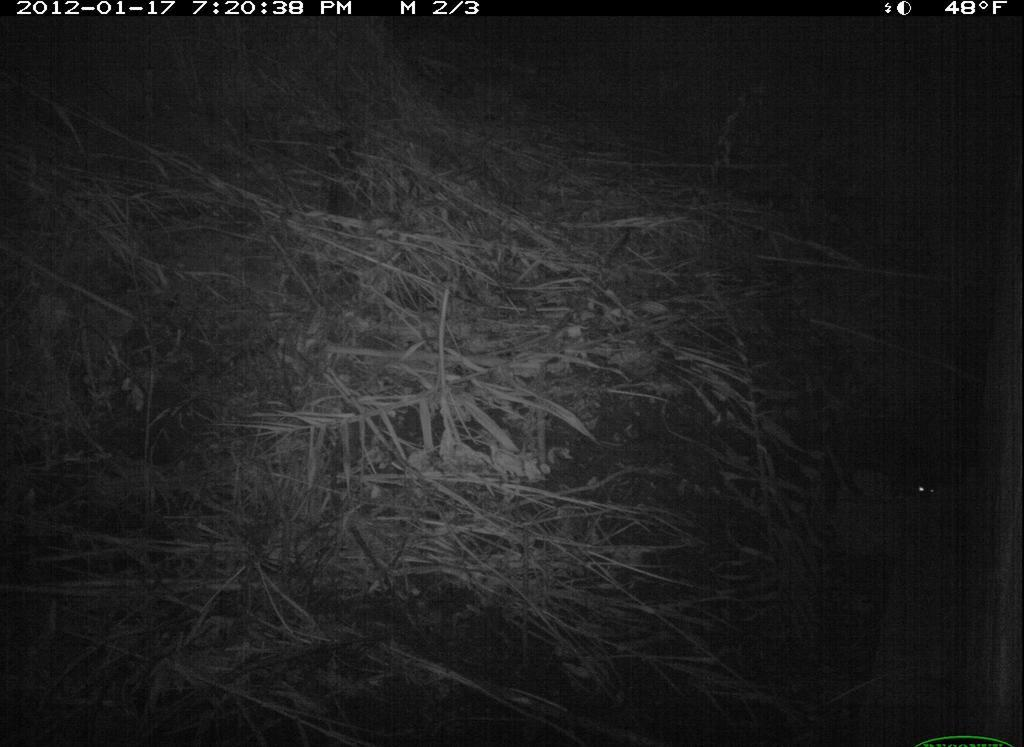cat: (881, 423, 986, 537)
